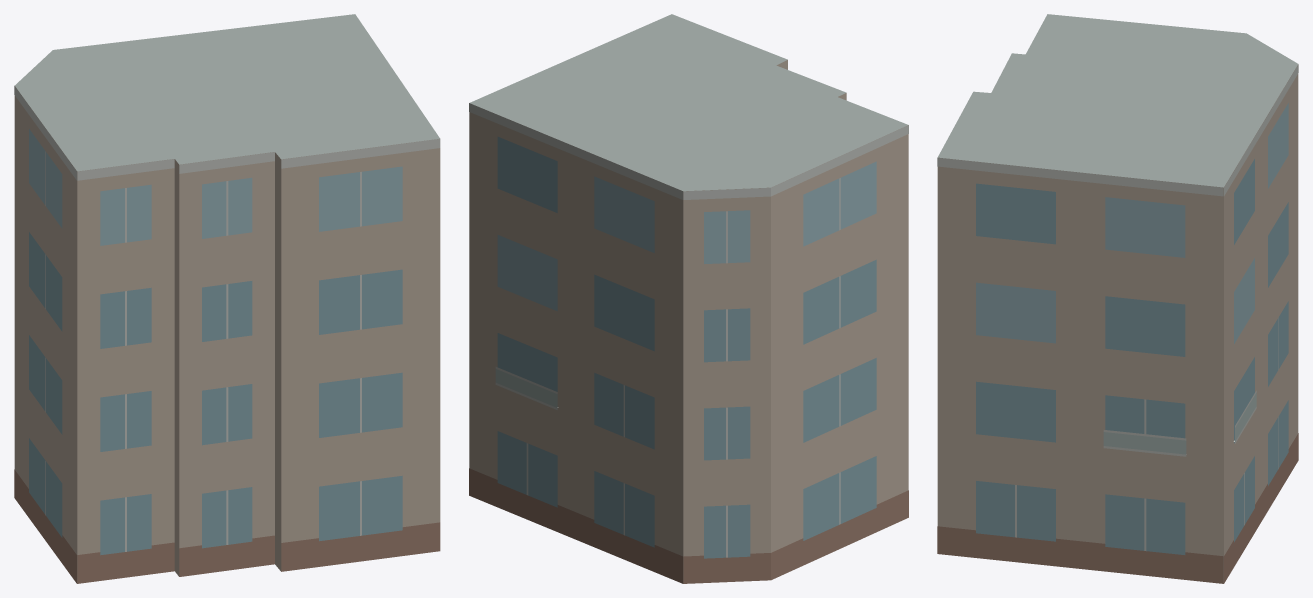
File: survey-upis-33023156.glb
3 views of the same model, side by side, from view 1: azimuth 30°, elevation 25°; view 2: azimuth 150°, elevation 25°; view 3: azimuth 270°, elevation 25° (orthographic). The views are drawn at different scales.
Visible parts, largest first — view 1: survey-upis-33023156.tmp; view 2: survey-upis-33023156.tmp; view 3: survey-upis-33023156.tmp.
Boxes of the visible parts, <box> form: survey-upis-33023156.tmp: <box>14,14,440,583</box>; survey-upis-33023156.tmp: <box>469,14,908,583</box>; survey-upis-33023156.tmp: <box>937,14,1298,583</box>.
Size of the model in its own units: 10.1 by 10.75 by 8.88.
